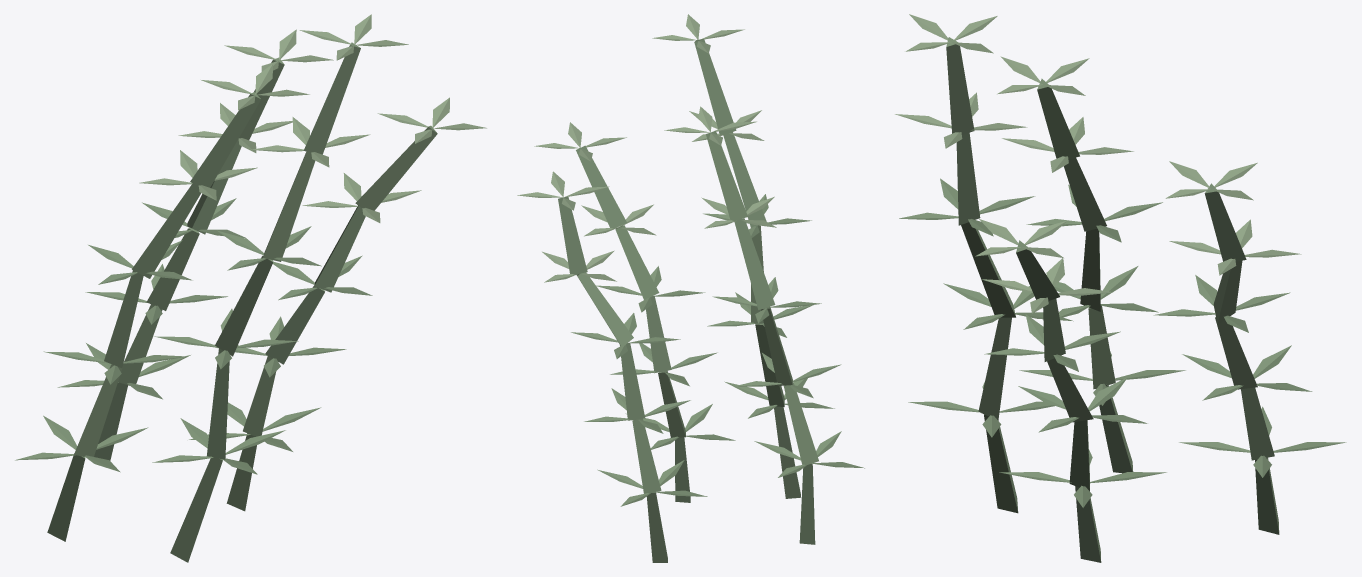
File: shui.huwei__autumn.glb
3 renders of one model, left to right at view 1: azimuth 30°, elevation 25°; view 2: azimuth 150°, elevation 25°; view 3: azimuth 270°, elevation 25°, orthographic. The views are drawn at different scales.
Parts seen in each view (by area): view 1: shui.huwei__autumn; view 2: shui.huwei__autumn; view 3: shui.huwei__autumn.
Boxes of the visible parts, x1,y1,x2,y2 form: shui.huwei__autumn: (15,14,486,562); shui.huwei__autumn: (517,14,864,562); shui.huwei__autumn: (895,14,1346,562).
Size of the model in its own units: 0.7743 by 0.896 by 0.6663.
